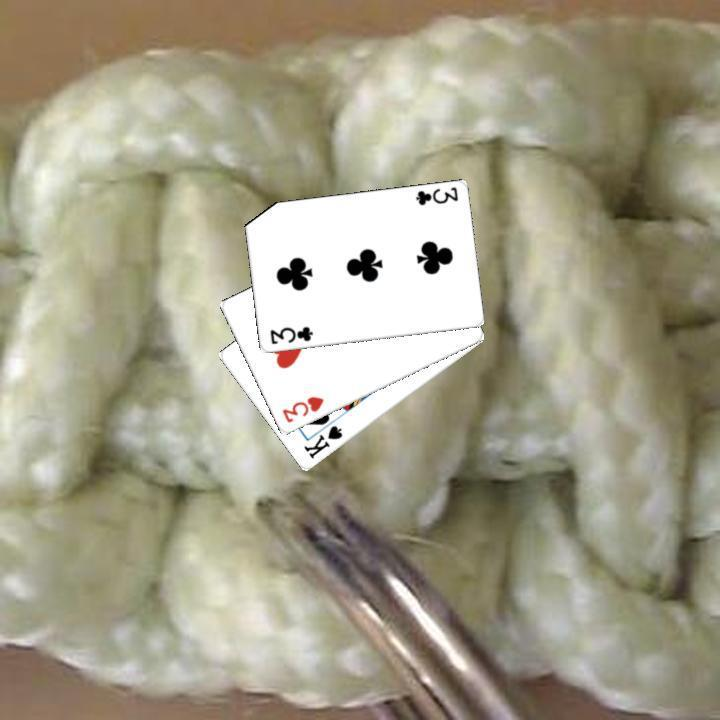3: (277, 392, 326, 425), (265, 322, 314, 347), (411, 183, 460, 207)
K: (299, 421, 345, 461)
